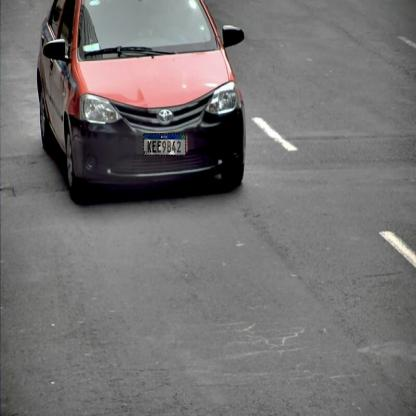PlacaM: (143, 133, 186, 156)
